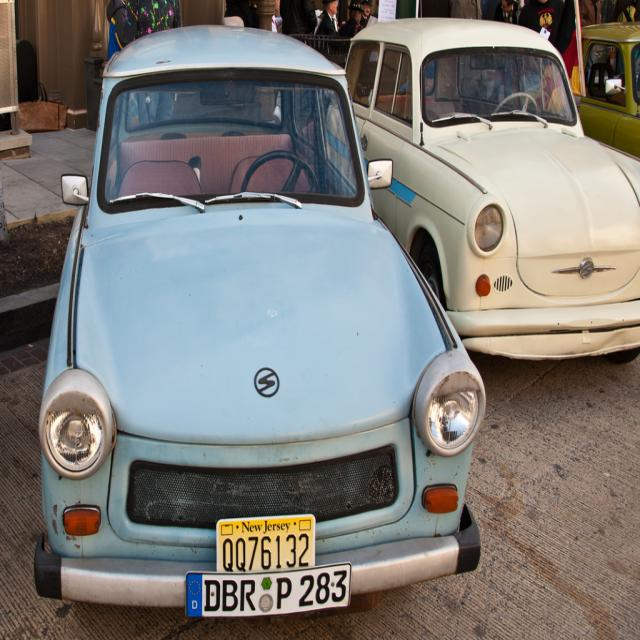Car: (33, 25, 487, 617), (324, 0, 640, 361), (558, 21, 640, 156), (579, 23, 640, 156)
